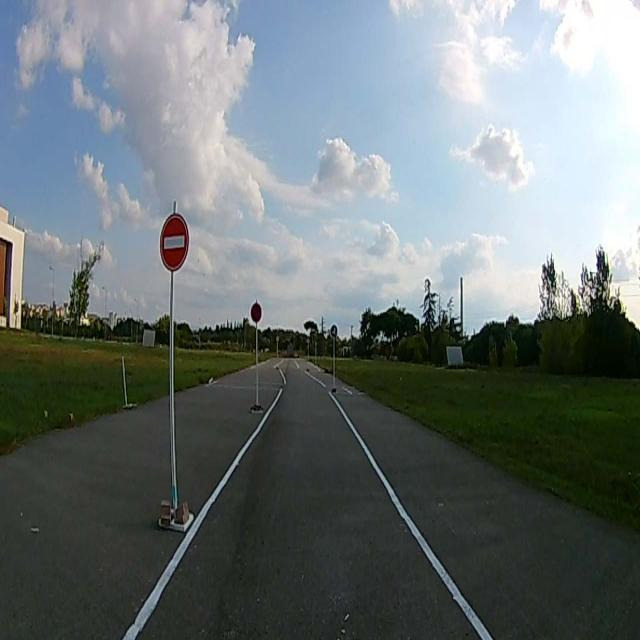girisyok: (159, 213, 189, 272)
